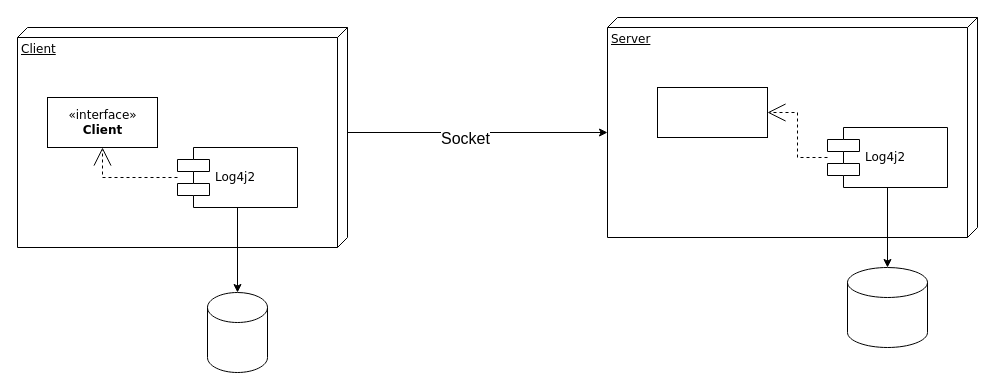
The diagram is 995 pixels wide and 390 high, and some of its shapes have lost their labels. The box of each missing label's shape, as (x1, y1, x2, y2) in pixels:
client.log: (206, 292, 268, 372)
server.log: (846, 266, 928, 348)
«interface» Server: (656, 86, 768, 138)
